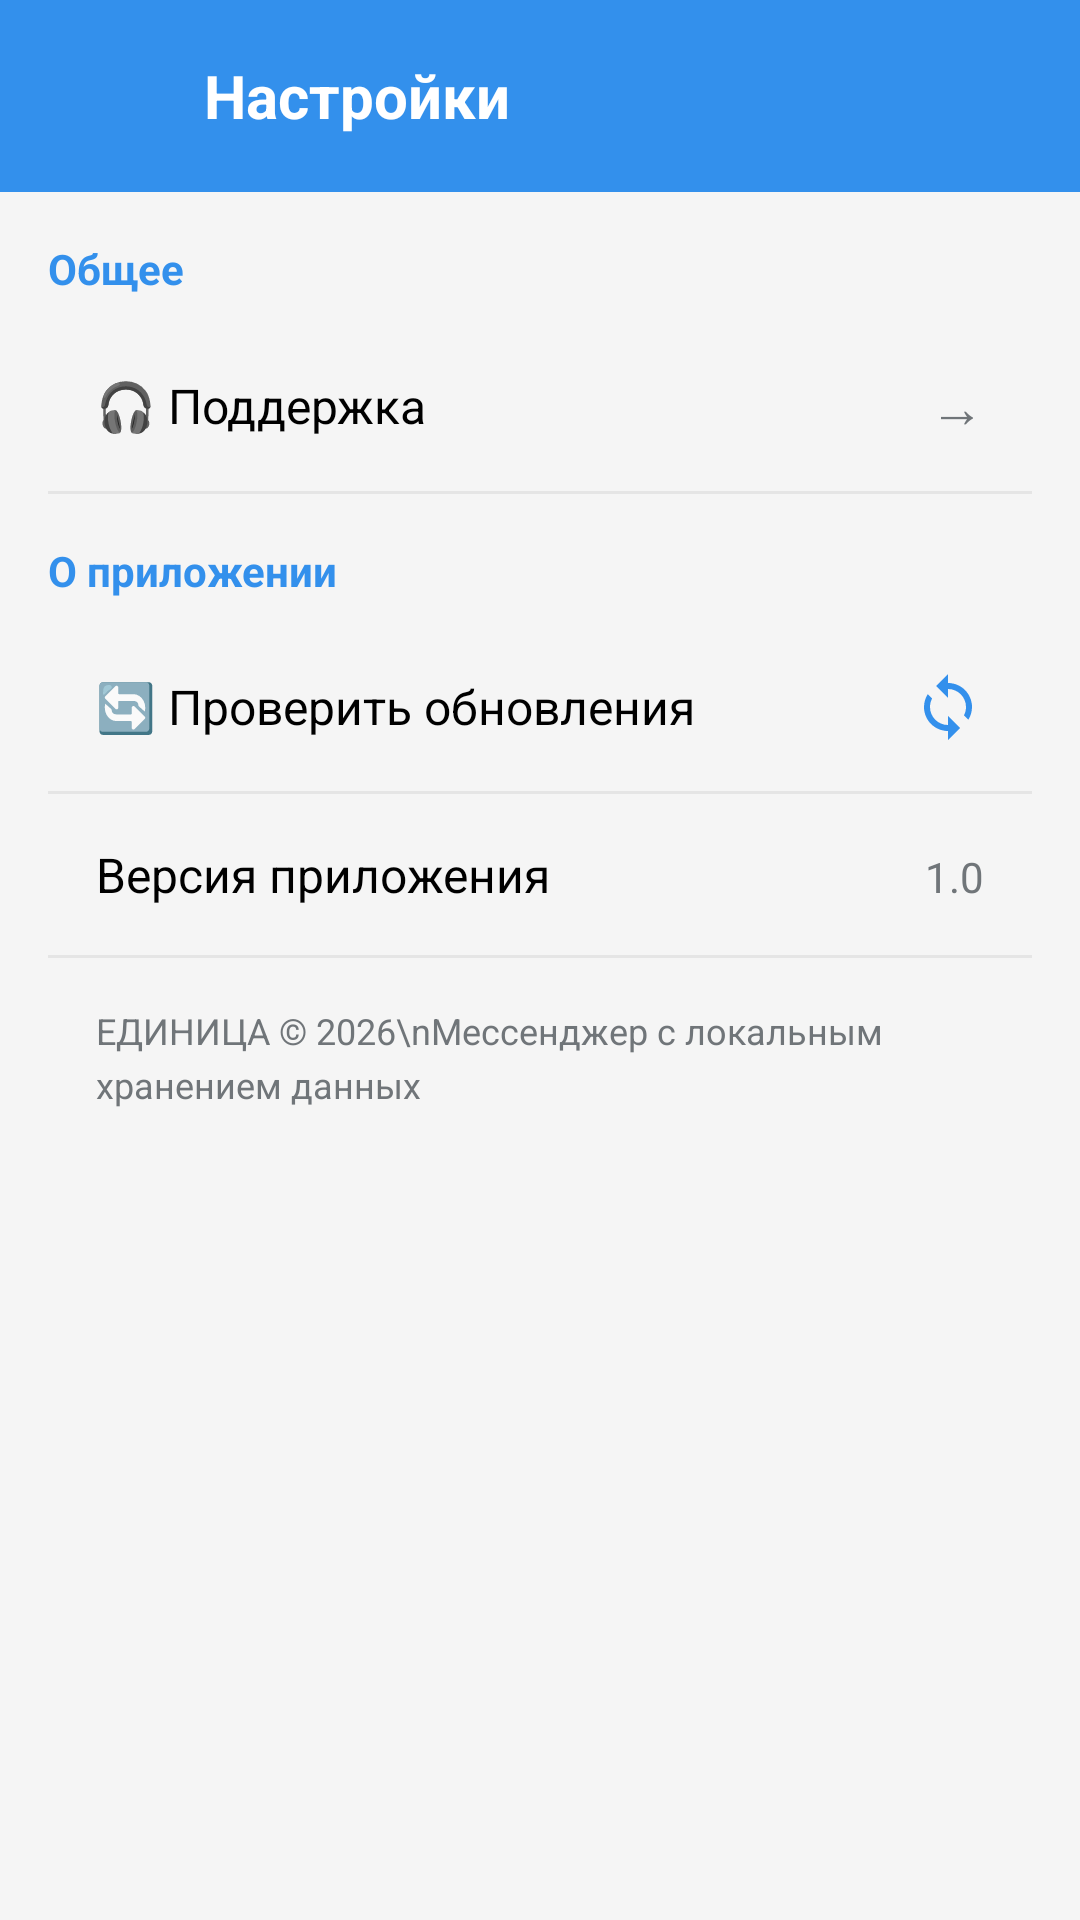

Screen size 1080px x 1920px. Icon name, then its box in pixels as [x1, y1, x2, y2]:
Обновить: [924, 674, 972, 740]
